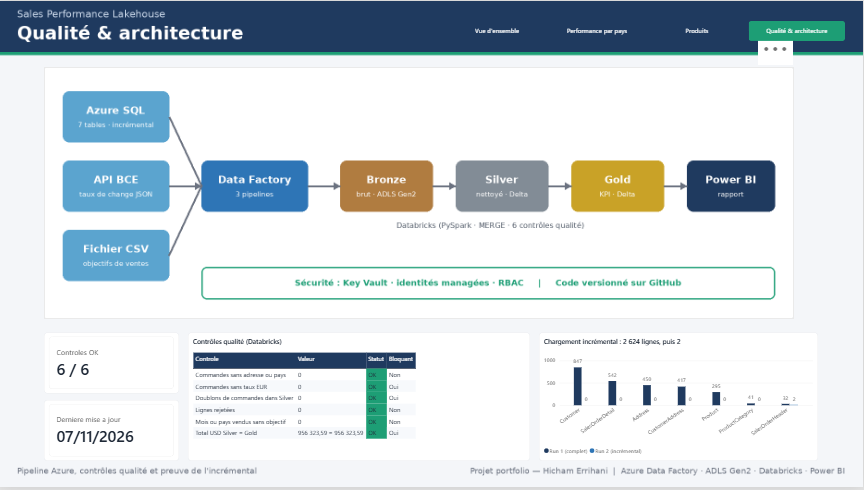

The page's visual inventory and layout, read from the dashboard file:
{"tool":"powerbi","page":{"name":"Qualité & architecture","canvas":[1920,1080],"ordinal":3},"visuals":[{"type":"image","box":[100,145,1666,560],"z":0},{"type":"cardVisual","fields":{"Data":["_Mesures.Controles OK"]},"box":[100,735,300,135],"z":1000},{"type":"cardVisual","fields":{"Data":["_Mesures.Derniere mise a jour"]},"box":[100,885,300,135],"z":2000},{"type":"tableEx","title":"Contrôles qualité (Databricks)","fields":{"Values":["Qualite.Controle","Qualite.Valeur","Qualite.Statut","Qualite.Bloquant"]},"box":[420,735,760,285],"z":3000},{"type":"clusteredColumnChart","title":"Chargement incrémental : 2 624 lignes, puis 2","fields":{"Category":["Incremental.Table SQL"],"Y":["Sum(Incremental.Run 1 (complet))","Sum(Incremental.Run 2 (incrémental))"]},"box":[1200,735,620,285],"z":4000},{"type":"pageNavigator","box":[990,35,900,60],"z":5000}]}

Visuals, with their boxes in screenshot pixels (x1, y1, x2, y2), scaled from the page's 1920x1080 canvas onto the 864x490 screenshot:
image: crop(45, 66, 795, 320)
cardVisual - _Mesures.Controles OK: crop(45, 333, 180, 395)
cardVisual - _Mesures.Derniere mise a jour: crop(45, 402, 180, 463)
"Contrôles qualité (Databricks)" tableEx: crop(189, 333, 531, 463)
"Chargement incrémental : 2 624 lignes, puis 2" clusteredColumnChart: crop(540, 333, 819, 463)
pageNavigator: crop(446, 16, 850, 43)
